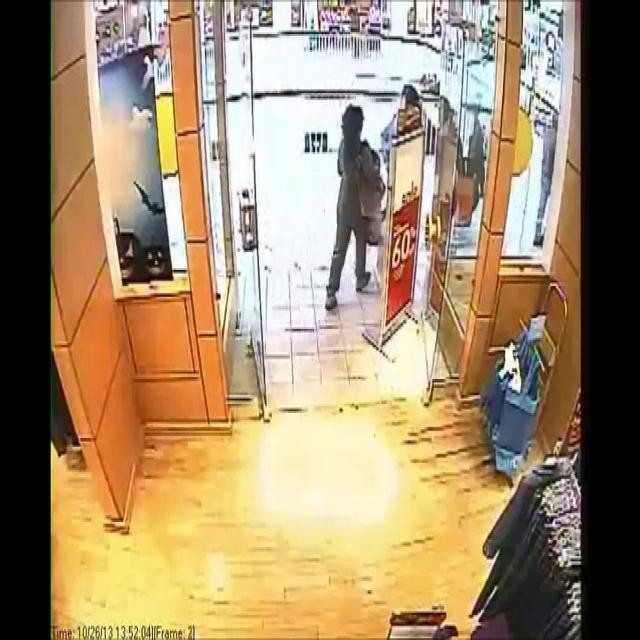normal: (317, 82, 392, 368)
